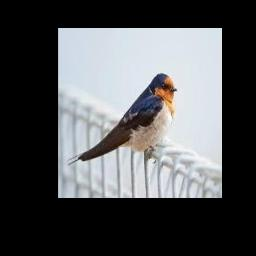Swallow: (67, 73, 177, 166)
